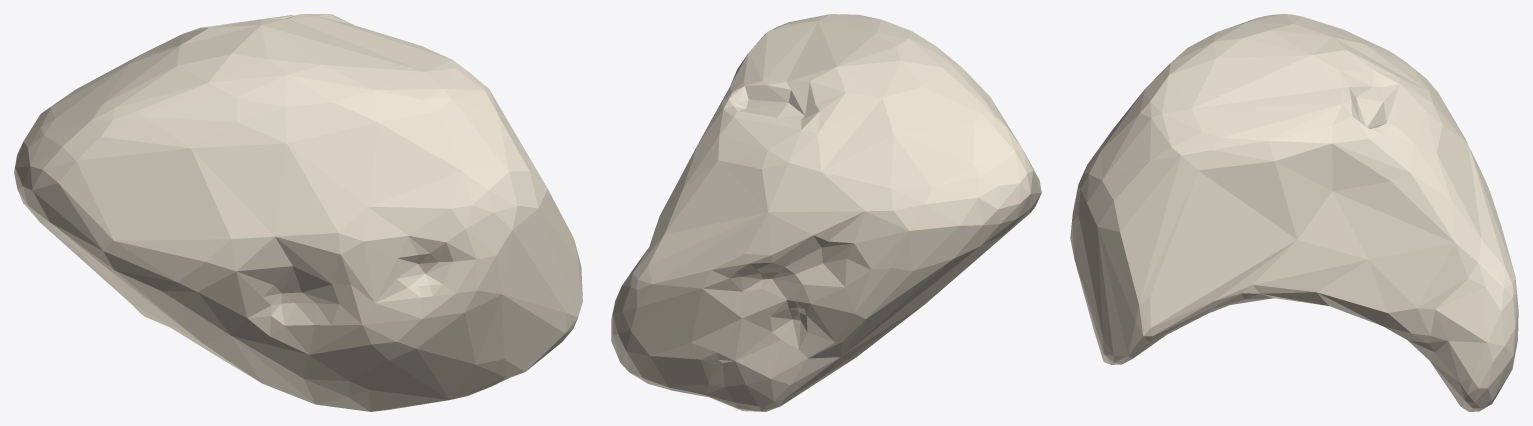
File: left_lunate.glb
3 views of the same model, side by side, from view 1: azimuth 30°, elevation 25°; view 2: azimuth 150°, elevation 25°; view 3: azimuth 270°, elevation 25° (orthographic). The views are drawn at different scales.
Parts seen in each view (by area): view 1: left_lunate; view 2: left_lunate; view 3: left_lunate.
Part boxes in pixels (x1,y1,x2,y2): left_lunate: [14, 14, 582, 411]; left_lunate: [611, 14, 1041, 411]; left_lunate: [1070, 14, 1518, 411].
Bounding box in the file's own units: 0.0167 × 0.013 × 0.0168.
